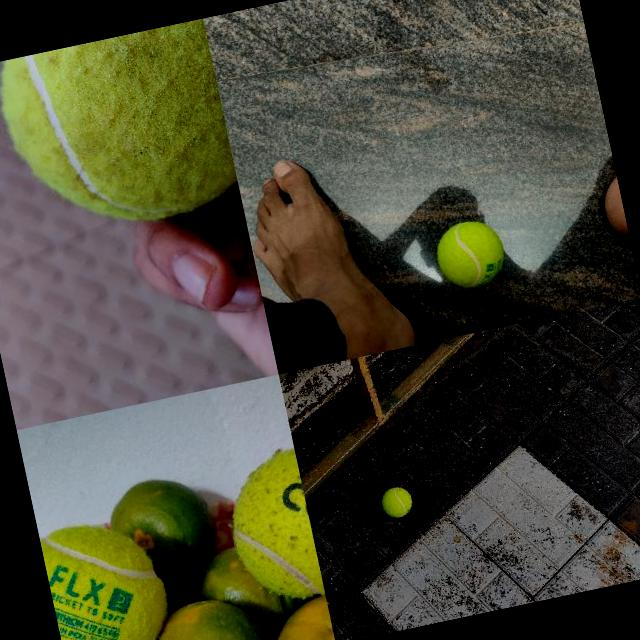tennis-ball: (0, 18, 241, 250), (216, 448, 324, 610), (38, 516, 146, 640), (430, 215, 510, 292), (378, 483, 414, 520)
